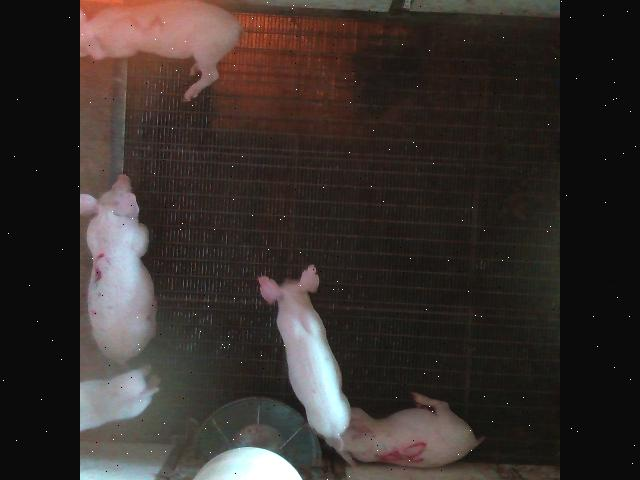pig-2: (82, 0, 242, 100)
pig-3: (81, 174, 156, 362)
pig-5: (342, 391, 484, 466)
